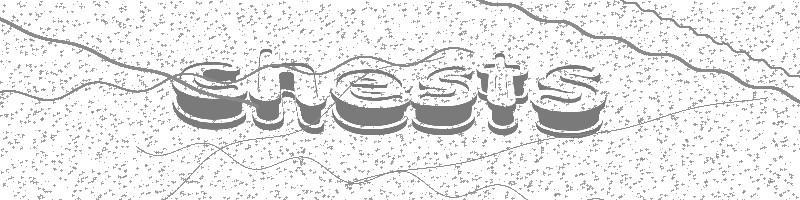c: (169, 60, 249, 129)
e: (330, 59, 411, 136)
h: (254, 43, 328, 135)
s: (528, 61, 610, 137), (412, 62, 480, 135)
t: (478, 47, 534, 136)
